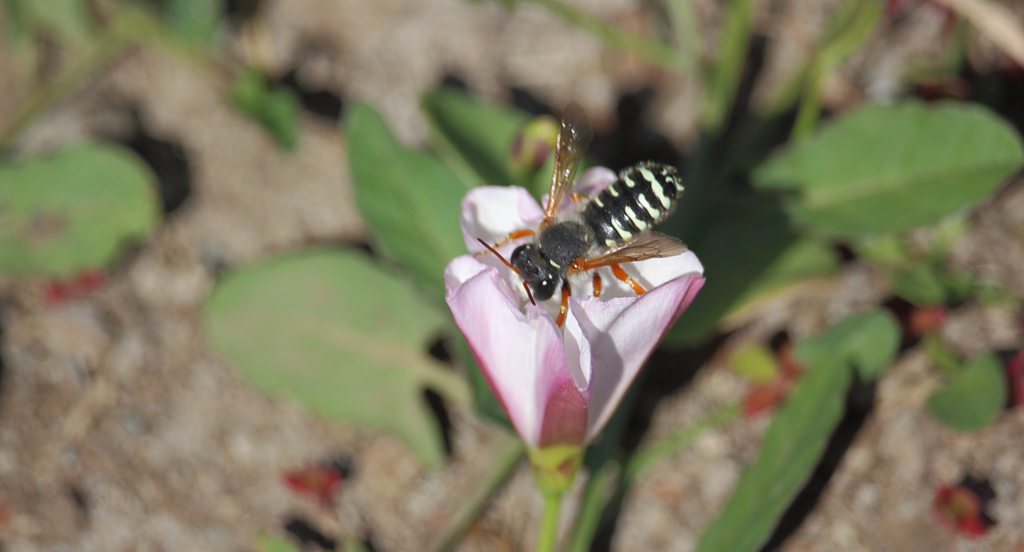not_bumblebee: (476, 118, 692, 331)
